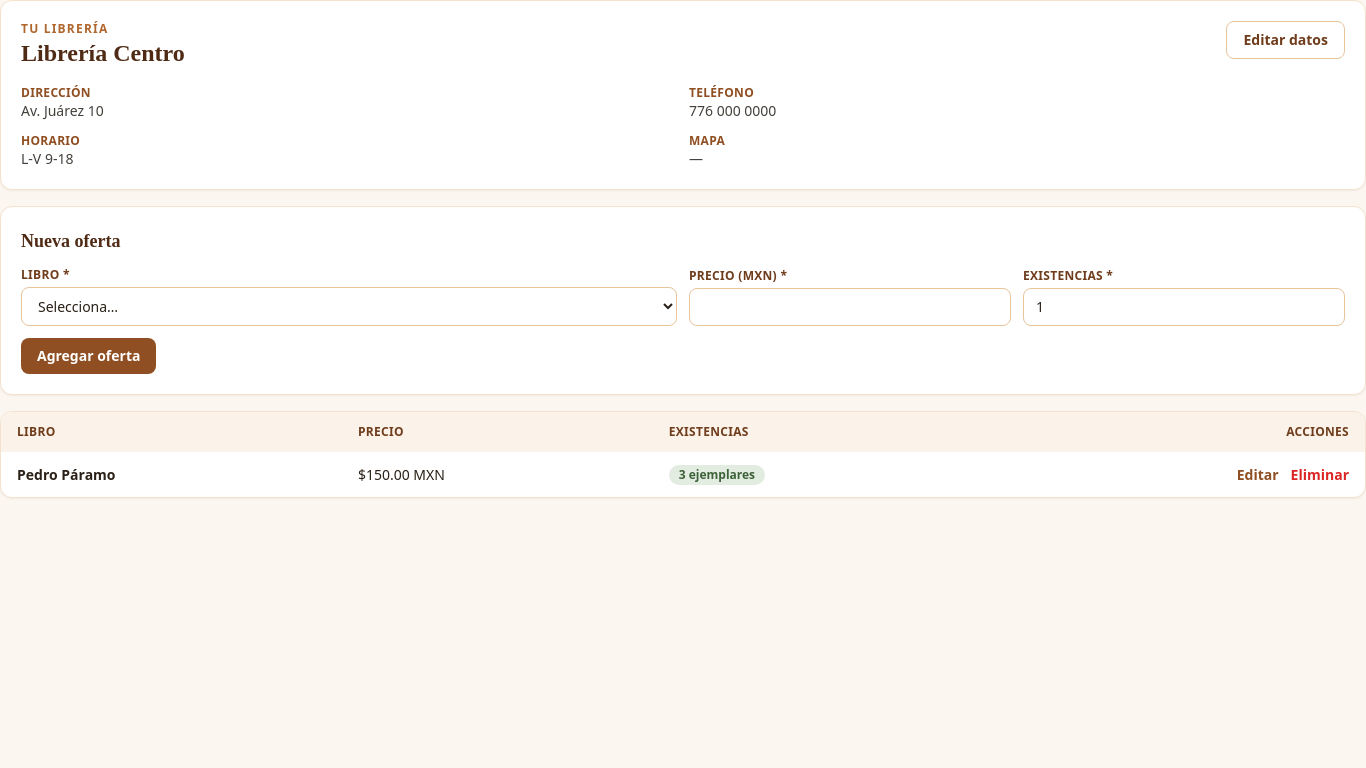
Scenario: MyStoreAdmin › updates and deletes an offer of the store
Click the button "Editar". click: coordinates (1258, 474)
box: [1237, 464, 1279, 484]
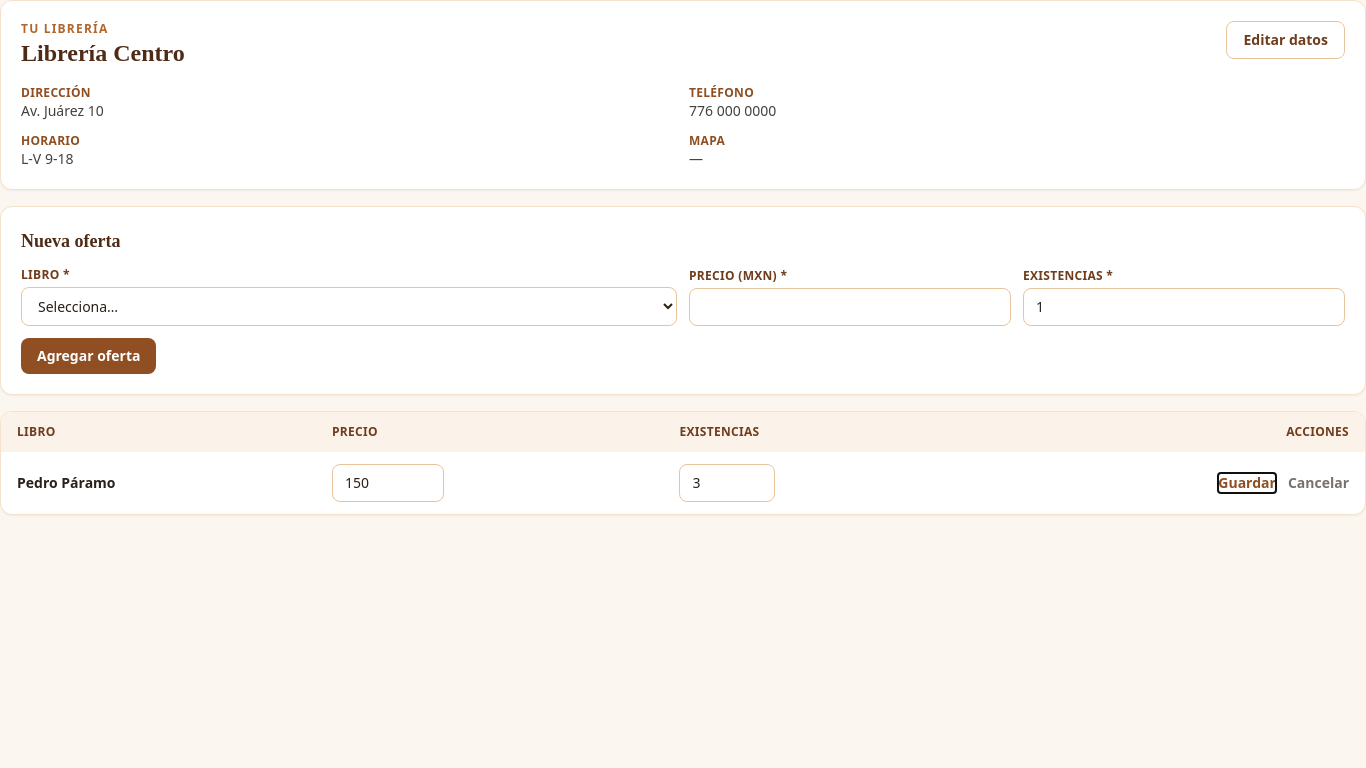
Replace the text in the number field named "Precio" with "175". click: coordinates (388, 483)
box: [332, 464, 444, 502]
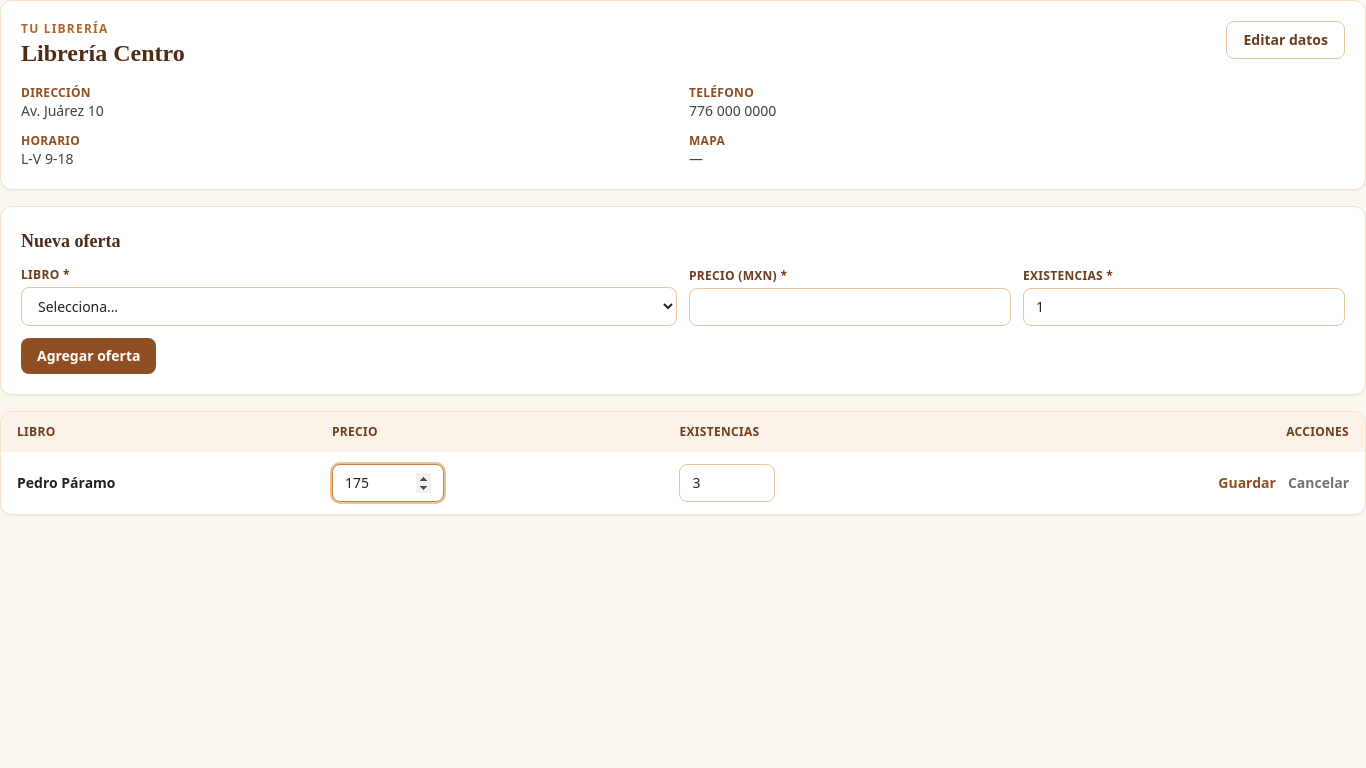
Click the button "Guardar". click: coordinates (1247, 483)
box: [1218, 473, 1276, 493]
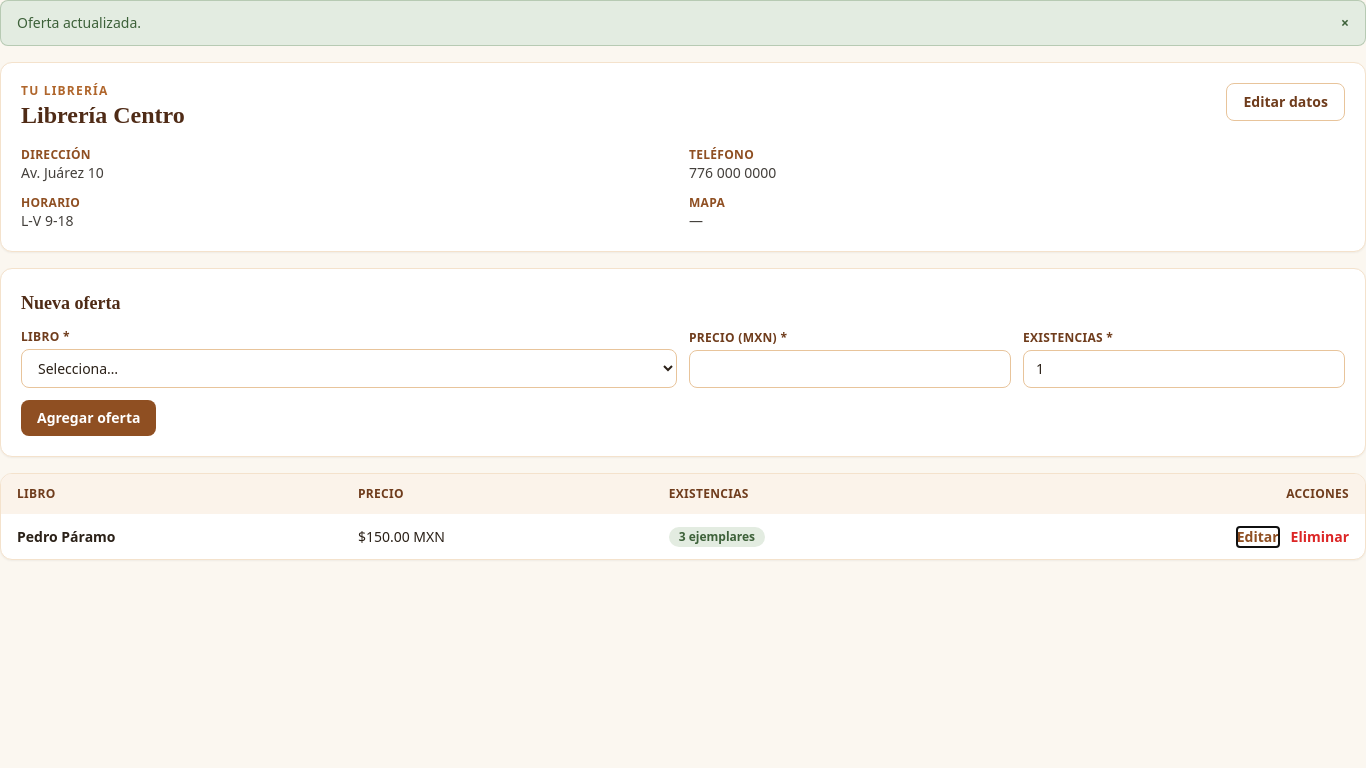
expect the text "Oferta actualizada." is shown: met, box [17, 13, 141, 33]
Click the button "Eliminar". click: coordinates (1320, 536)
box: [1291, 526, 1349, 546]
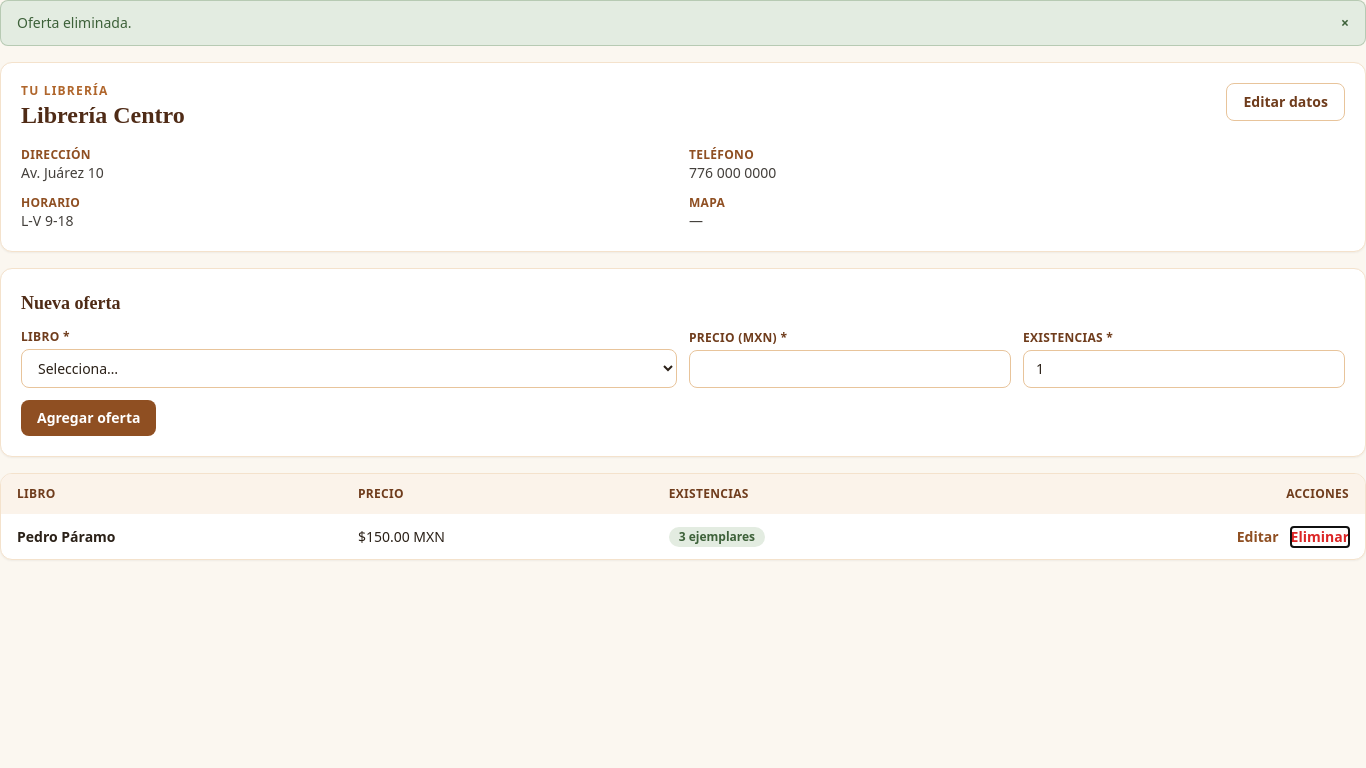
expect the text "Oferta eliminada." is shown: met, box [17, 13, 132, 33]
